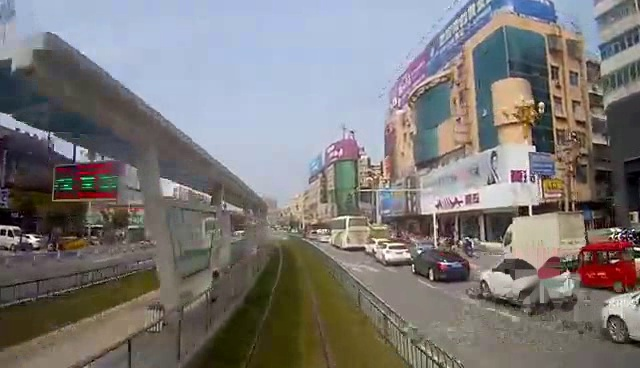car: (480, 247, 578, 317), (412, 243, 474, 285), (375, 237, 412, 267)
